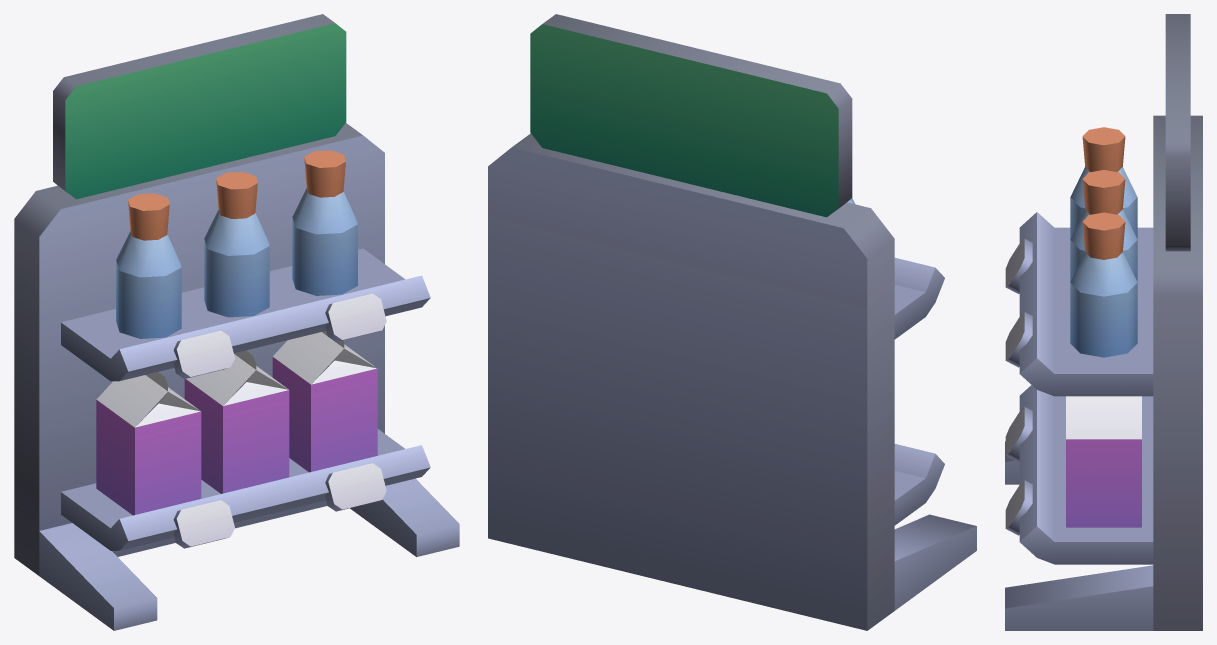
The model's file is shelf-end.glb.
The picture shows the model from 3 angles, left to right: view 1: azimuth 30°, elevation 25°; view 2: azimuth 150°, elevation 25°; view 3: azimuth 270°, elevation 25°; orthographic projection. The views are drawn at different scales.
Visible parts, largest first — view 1: shelf-end, carton (×3), bottle (×3); view 2: shelf-end; view 3: shelf-end, bottle (×3), carton.
Part boxes in pixels (<box>): shelf-end: <box>14,14,459,630</box>; carton (×3): <box>96,331,377,515</box>; bottle (×3): <box>116,150,357,338</box>; shelf-end: <box>488,14,976,630</box>; shelf-end: <box>1005,14,1202,630</box>; bottle (×3): <box>1070,127,1137,357</box>; carton: <box>1066,396,1141,527</box>.
Size of the model in its own units: 0.8001 by 1.05 by 0.3999.
Materials: 1 (1 with a texture image).
